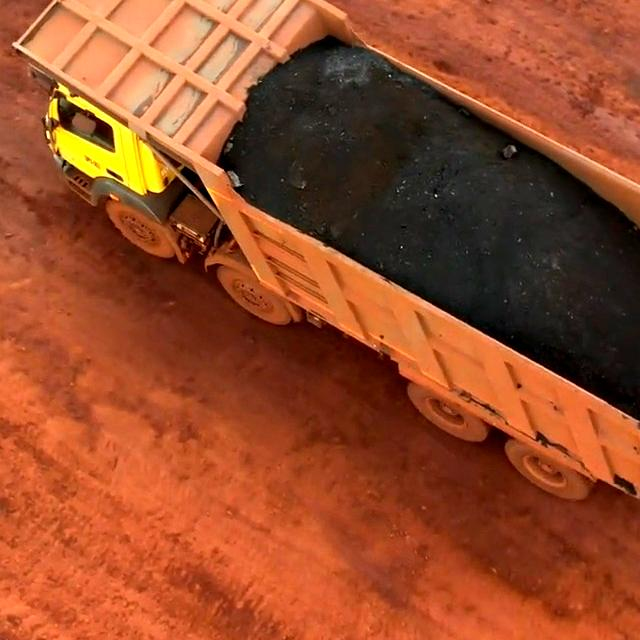Dumper truck: (64, 0, 337, 250)
